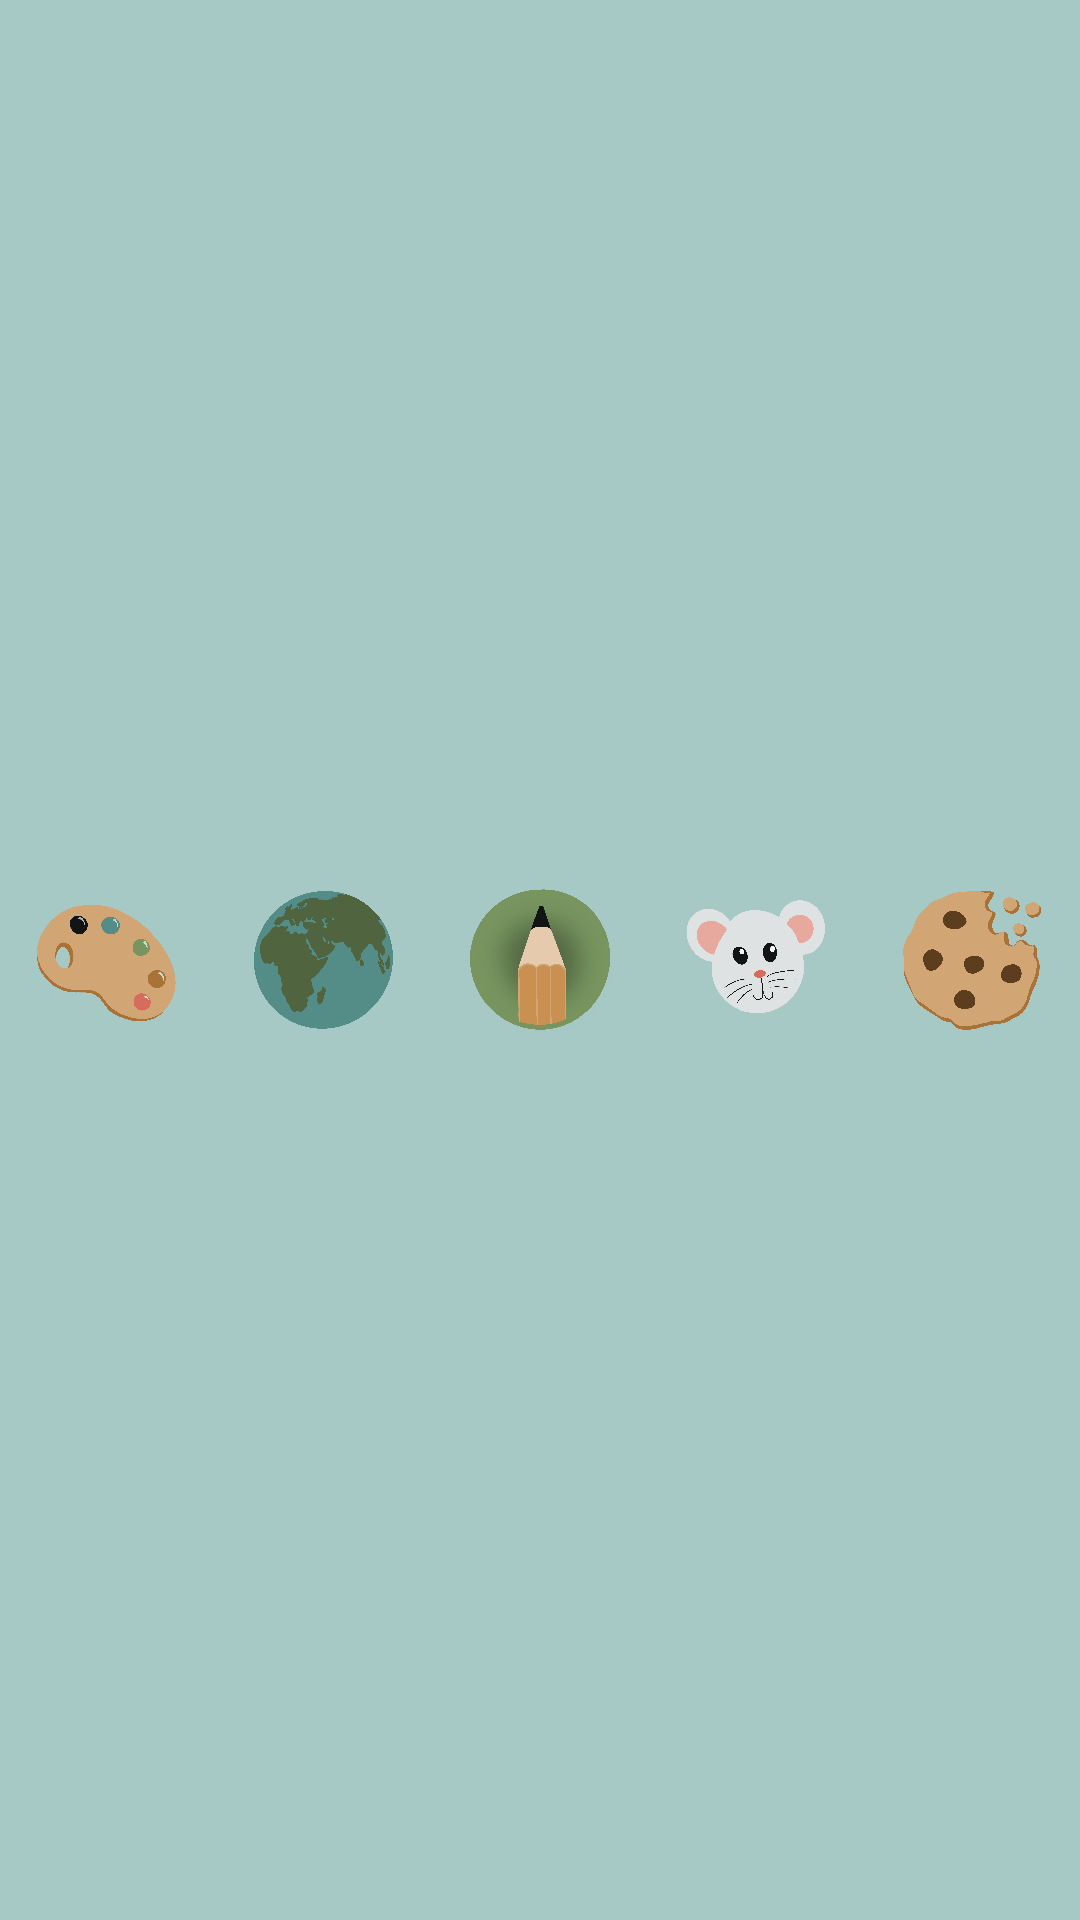

Where to tap for icons on this 1080×1920 app screen, as [x,y]:
cookie: [972,960]
mouse: [756,956]
palette: [106,963]
world: [323,960]
